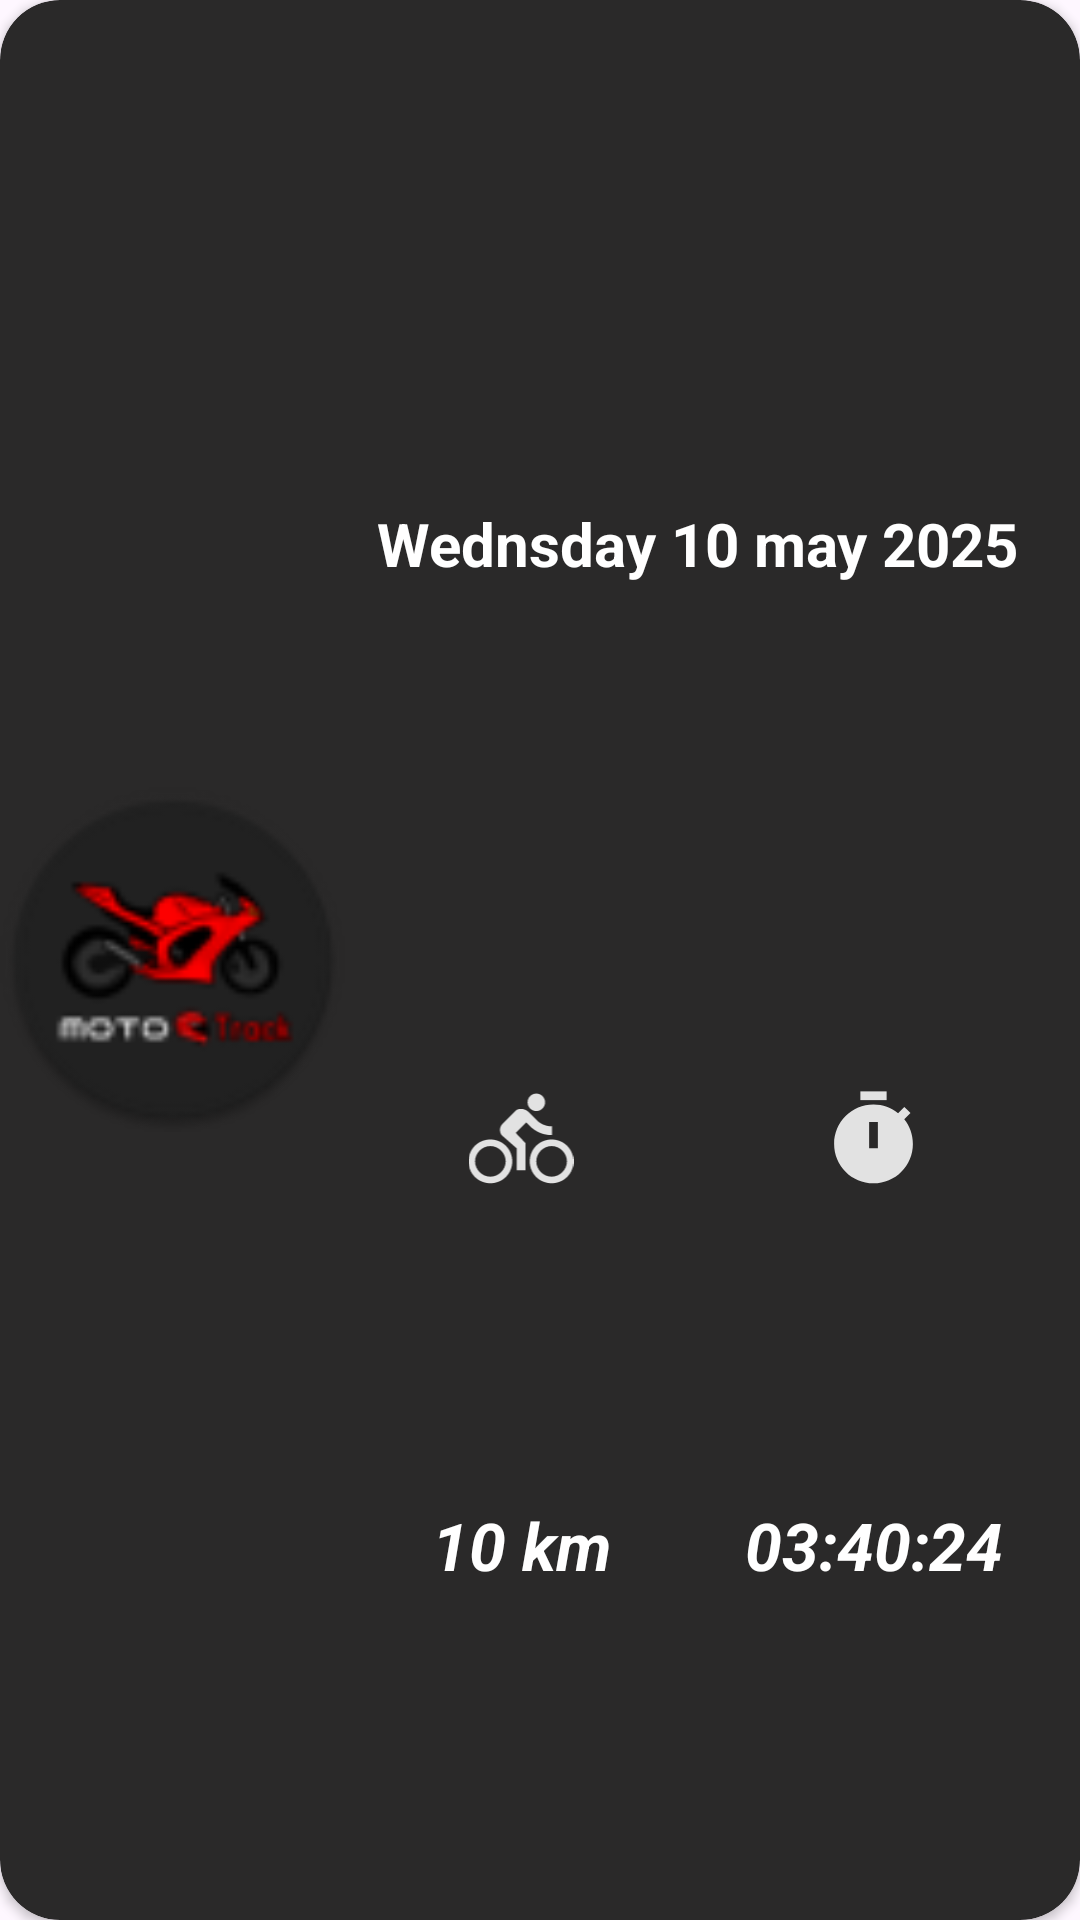

Icon click points for this 1080px x 1920px phone screenshot, format (x,y):
bike: (521,1138)
time: (873,1137)
